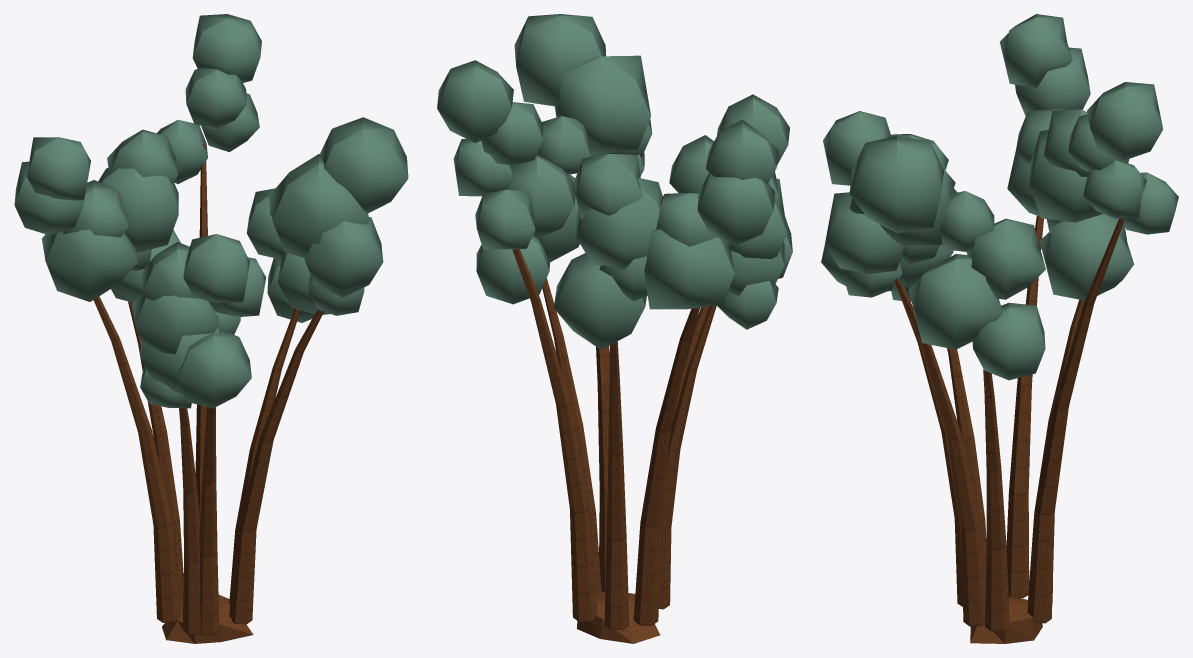
Rendered from dense-temperate-forest-flora-yew-old-94715503__28357.glb.
The picture shows the model from 3 angles, left to right: view 1: azimuth 30°, elevation 25°; view 2: azimuth 150°, elevation 25°; view 3: azimuth 270°, elevation 25°; orthographic projection. The views are drawn at different scales.
Visible parts, largest first — view 1: yew-old; view 2: yew-old; view 3: yew-old.
Boxes of the visible parts, x1,y1,x2,y2 form: yew-old: (14,14,408,643); yew-old: (437,14,792,643); yew-old: (821,14,1178,643).
Size of the model in its own units: 8.13 by 13.42 by 7.51.
2 materials, 1 textured.
